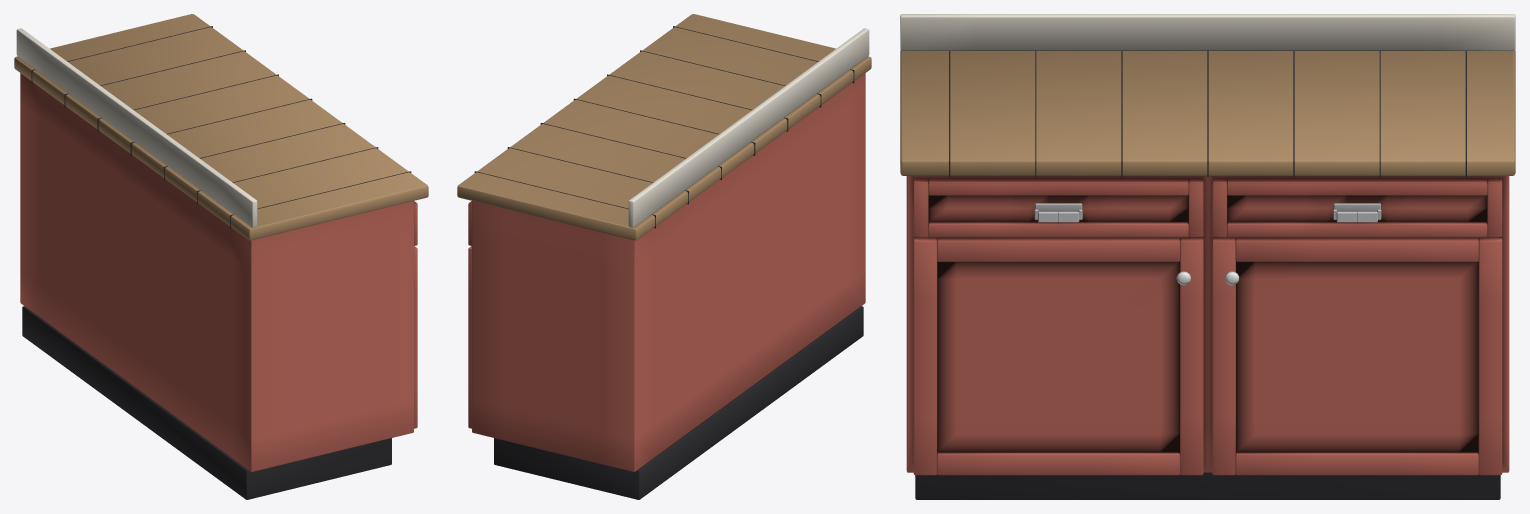
File: nd_kitchen_stand.glb
3 views of the same model, side by side, from view 1: azimuth 30°, elevation 25°; view 2: azimuth 150°, elevation 25°; view 3: azimuth 270°, elevation 25° (orthographic). The views are drawn at different scales.
Visible parts, largest first — view 1: PART, P_door_a; view 2: PART, P_door_b; view 3: PART, P_door_a, P_door_b, P_drawer_a, P_drawer_b.
Part boxes in pixels (bbox=[...]): PART: bbox=[14, 14, 428, 499]; P_door_a: bbox=[414, 246, 417, 428]; PART: bbox=[457, 14, 871, 499]; P_door_b: bbox=[468, 246, 471, 428]; PART: bbox=[900, 14, 1515, 499]; P_door_a: bbox=[913, 237, 1203, 475]; P_door_b: bbox=[1212, 237, 1502, 475]; P_drawer_a: bbox=[913, 179, 1203, 237]; P_drawer_b: bbox=[1212, 179, 1502, 237].
Size of the model in its own units: 0.6361 by 1.01 by 1.43.
